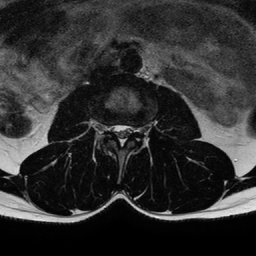CCS_normal: (118, 117, 126, 154)
LFS_stenosis: (133, 118, 142, 140)
LLS_stenosis: (126, 117, 133, 144)
RFS_normal: (103, 116, 111, 140)
RLS_normal: (111, 116, 118, 144)
